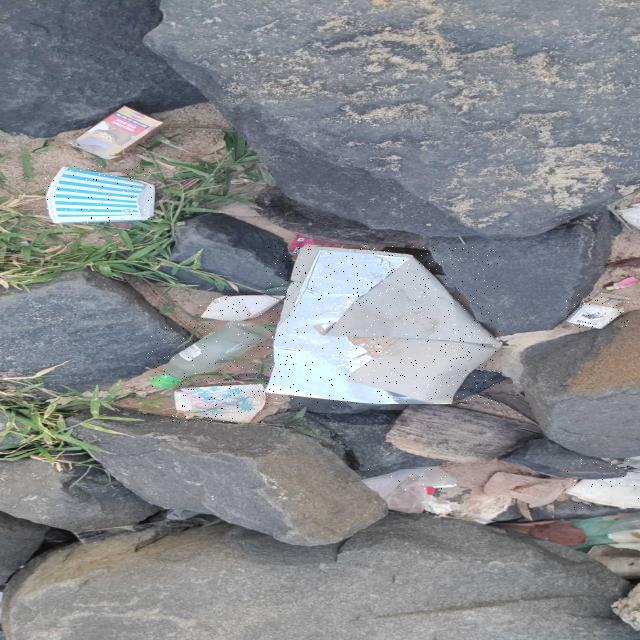glass: (148, 321, 270, 388)
paper: (265, 246, 500, 403), (44, 166, 152, 223), (567, 457, 639, 509), (172, 384, 265, 423), (566, 293, 630, 328), (199, 294, 284, 320)
plastic: (362, 468, 454, 490)
